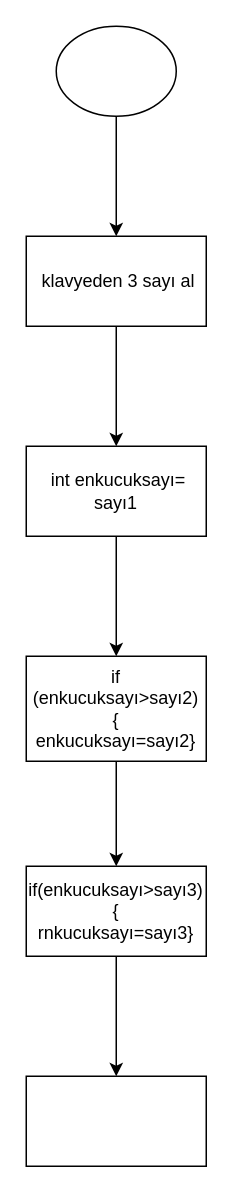
Some shapes in this 233 by 1193 pixel diagram are drawn without their labels. The shapes that lost their labels are listed below. From the top down, each one's centre as x and y in pixels, then its label:
the point at 115,70: Start
the point at 115,1120: println ile en kucuk sayı yazdırılır.
